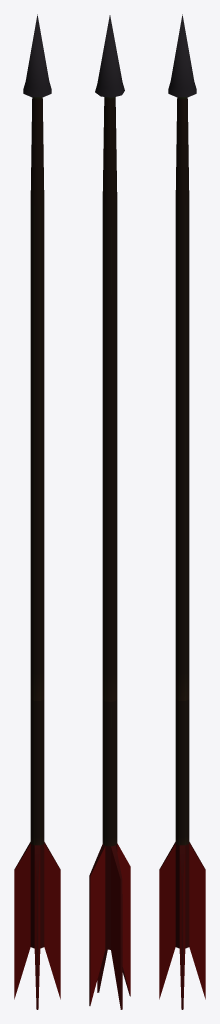
File: Arrow.fbx
The picture shows the model from 3 angles, left to right: view 1: azimuth 90°, elevation 25°; view 2: azimuth 210°, elevation 25°; view 3: azimuth 270°, elevation 25°; orthographic projection.
Parts seen in each view (by area): view 1: Arrow; view 2: Arrow; view 3: Arrow.
Part boxes in pixels (<box>): Arrow: <box>14,14,60,1009</box>; Arrow: <box>89,15,130,1009</box>; Arrow: <box>159,14,205,1009</box>.
Bounding box in the file's own units: 4.61 × 108 × 4.61.
